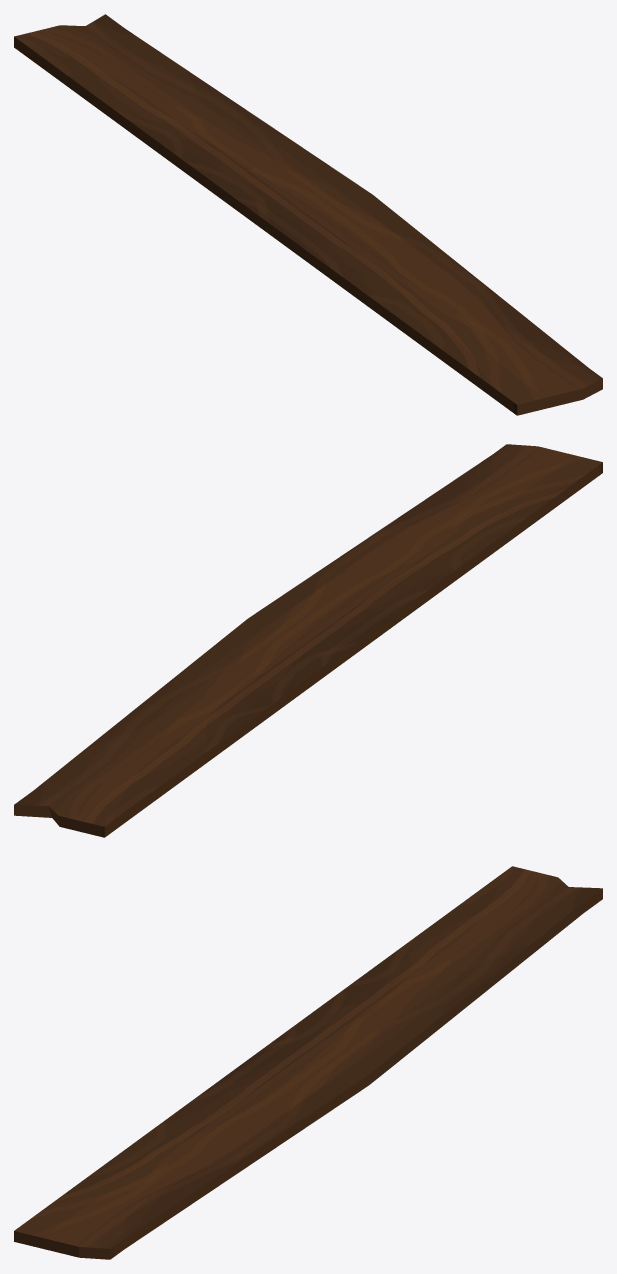
The model's file is FloorBoard-3.fbx.
The picture shows the model from 3 angles, top to bottom: view 1: azimuth 30°, elevation 25°; view 2: azimuth 150°, elevation 25°; view 3: azimuth 330°, elevation 25°; orthographic projection.
Parts seen in each view (by area): view 1: FloorBoard-3; view 2: FloorBoard-3; view 3: FloorBoard-3.
Boxes of the visible parts, x1,y1,x2,y2 form: FloorBoard-3: [14, 14, 602, 415]; FloorBoard-3: [14, 444, 602, 837]; FloorBoard-3: [14, 866, 602, 1259].
Size of the model in its own units: 234 by 22.92 by 1904.
Materials: 1 (1 with a texture image).
